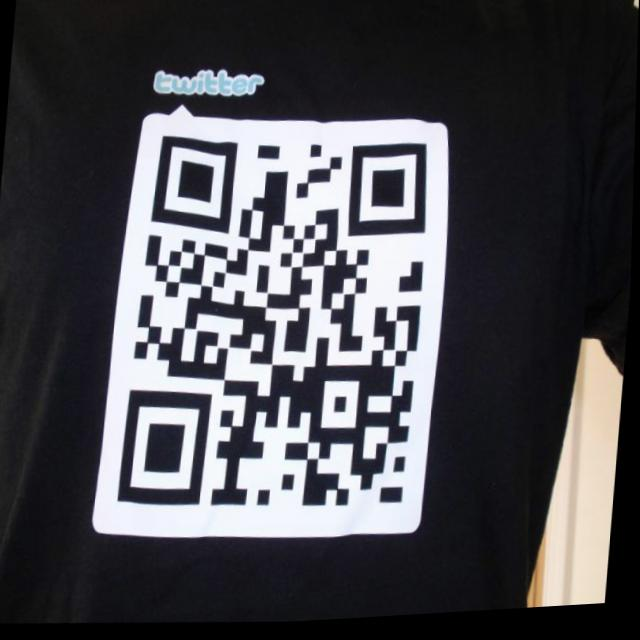qrcode: (121, 126, 435, 522)
